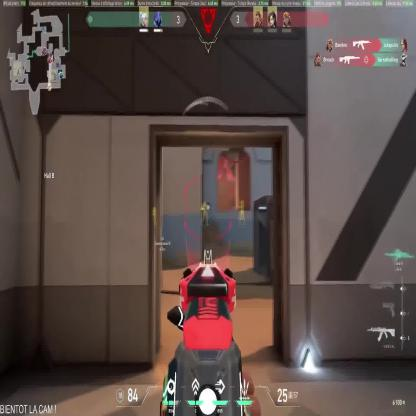enemy: (201, 200, 210, 226), (239, 199, 245, 225), (152, 206, 157, 226)
enemy_head: (240, 200, 244, 206), (153, 207, 156, 211), (204, 200, 206, 206)
